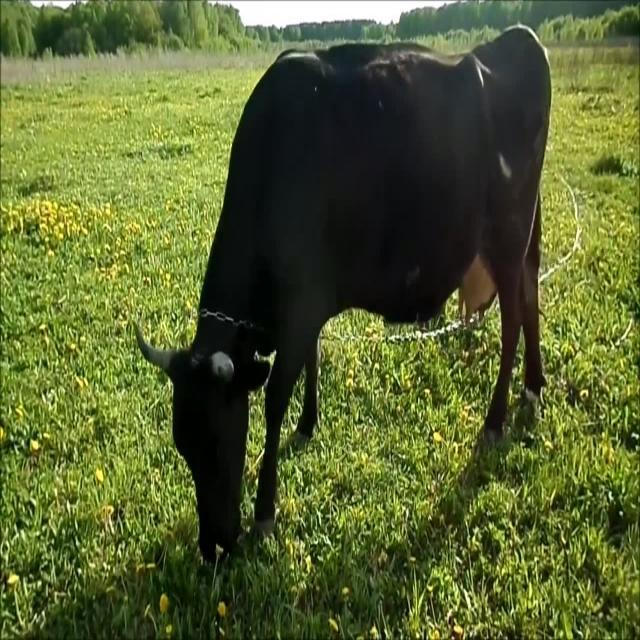cow: (139, 28, 551, 560)
